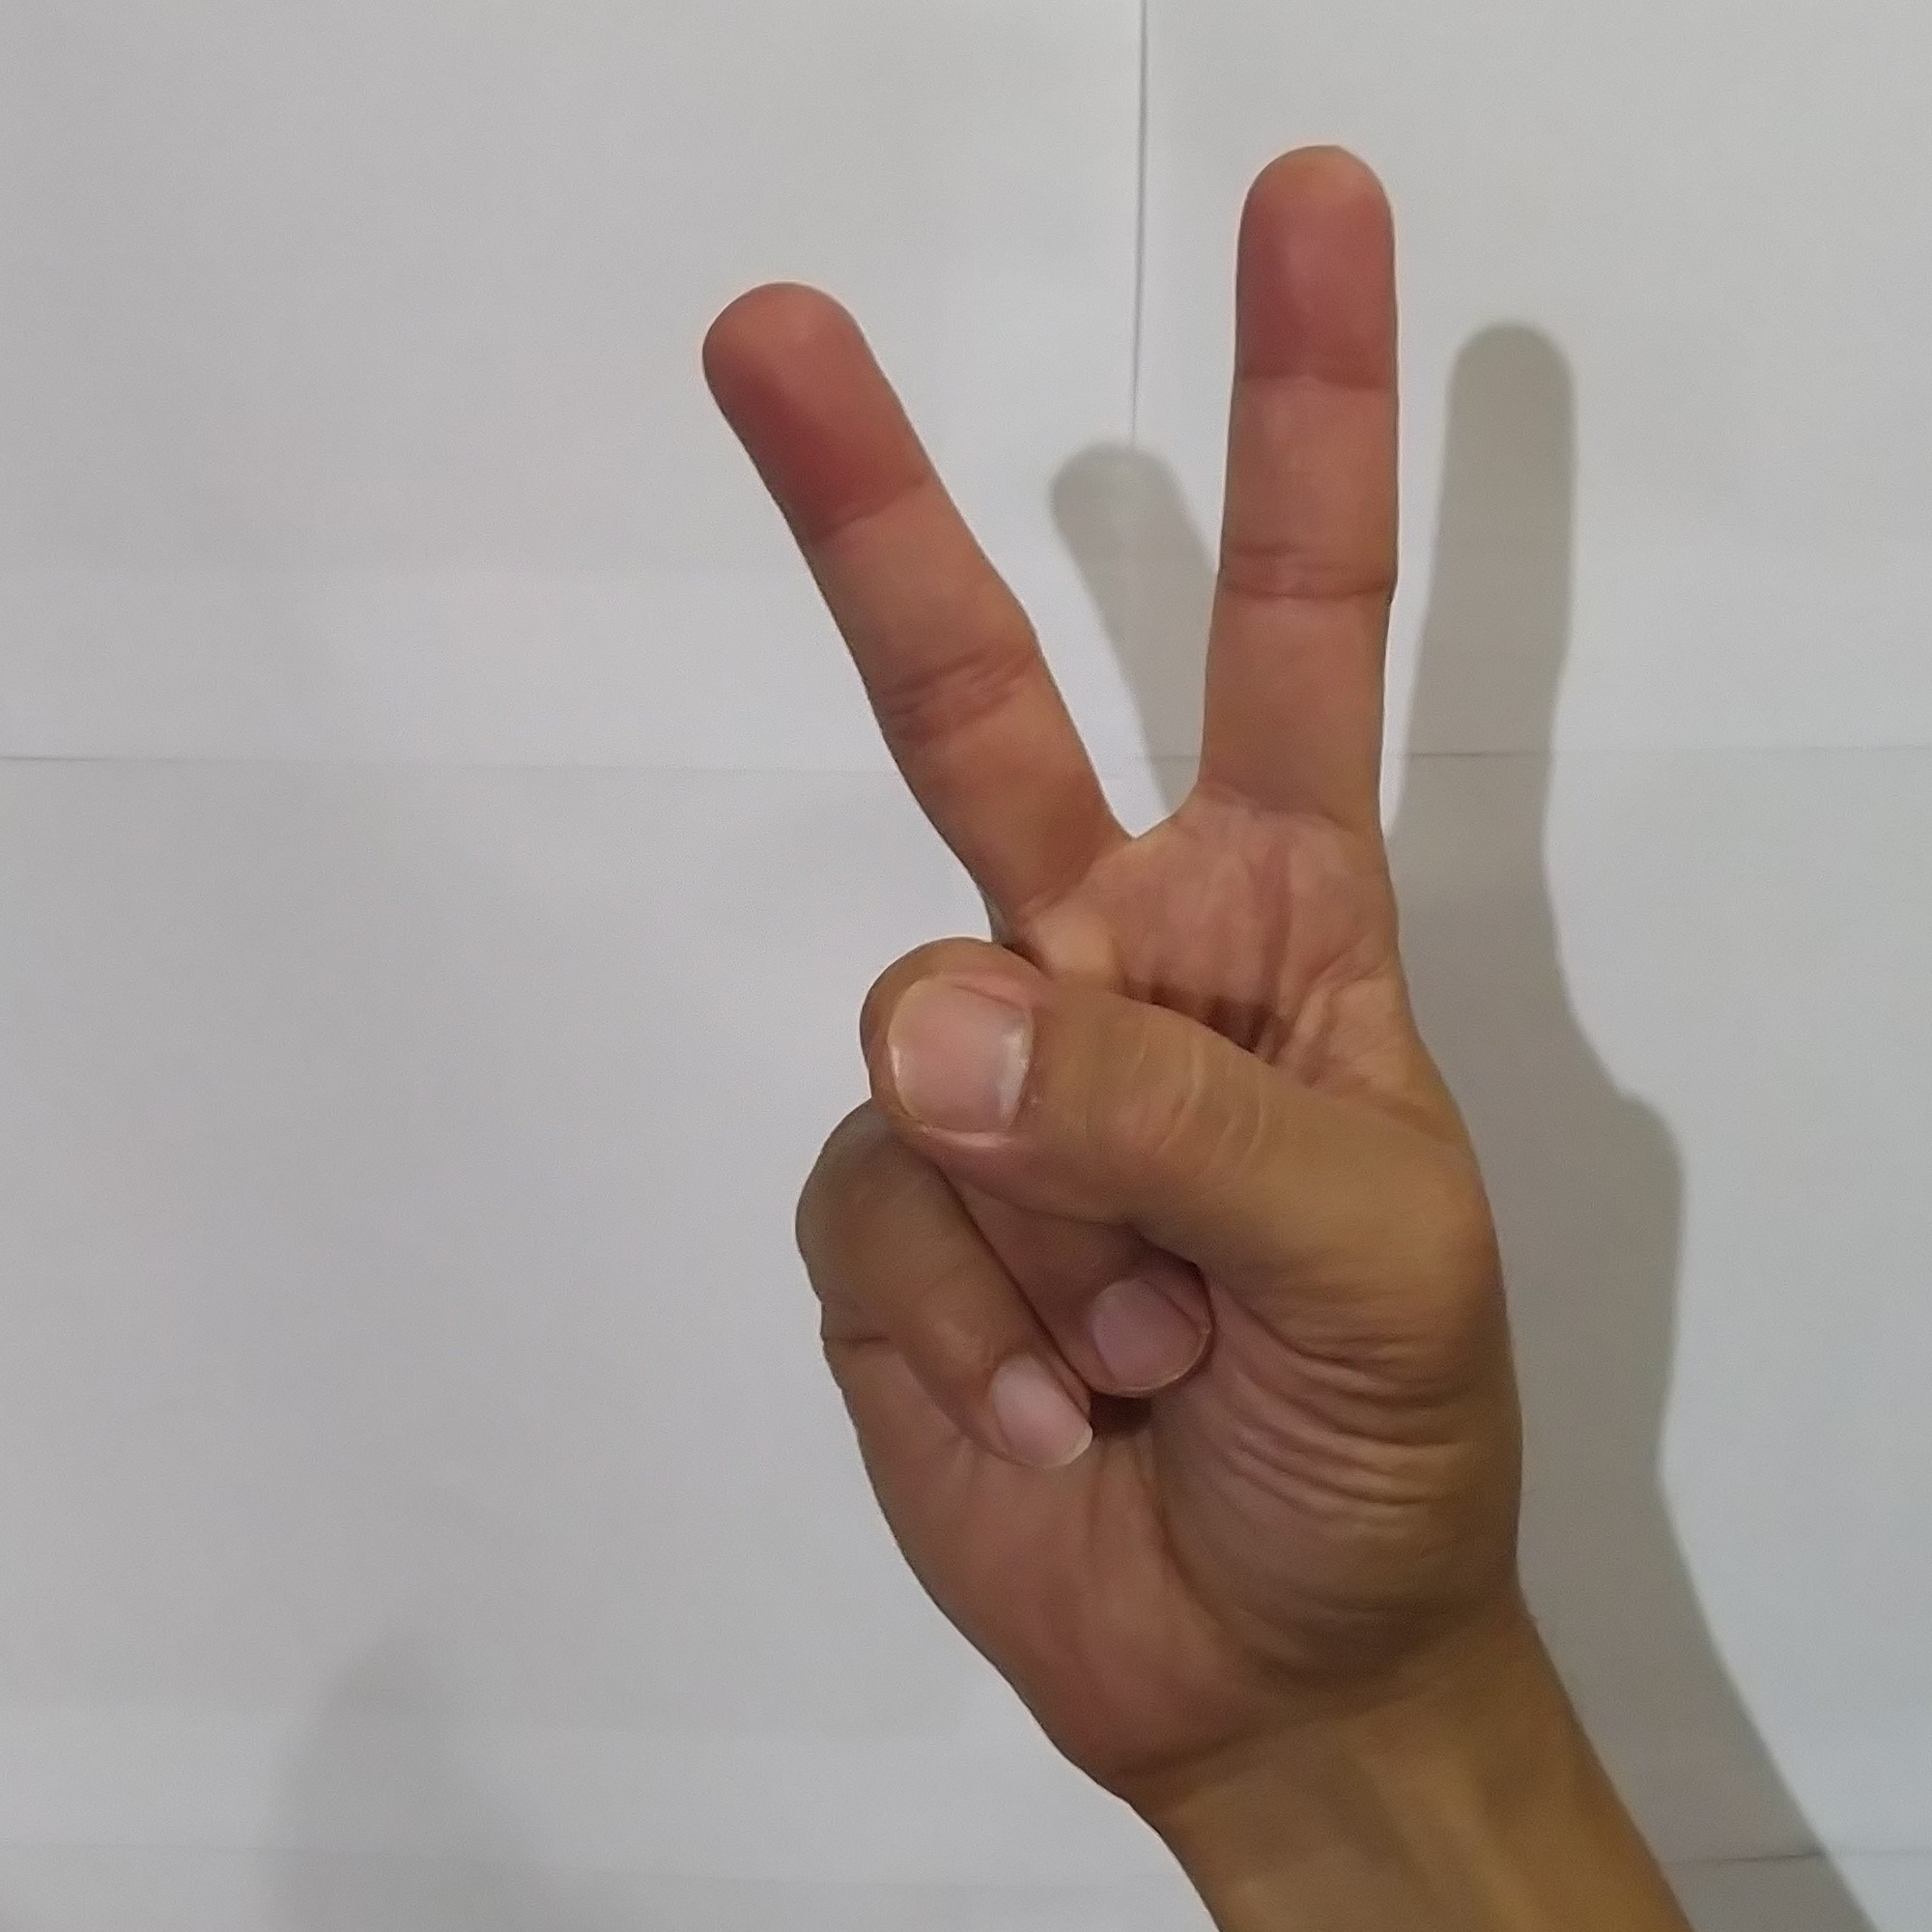V: (663, 115, 1571, 1727)
